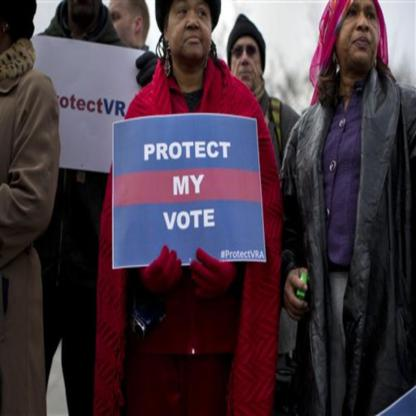face: (169, 4, 213, 62), (339, 4, 380, 64), (231, 35, 263, 92), (108, 2, 137, 55)
